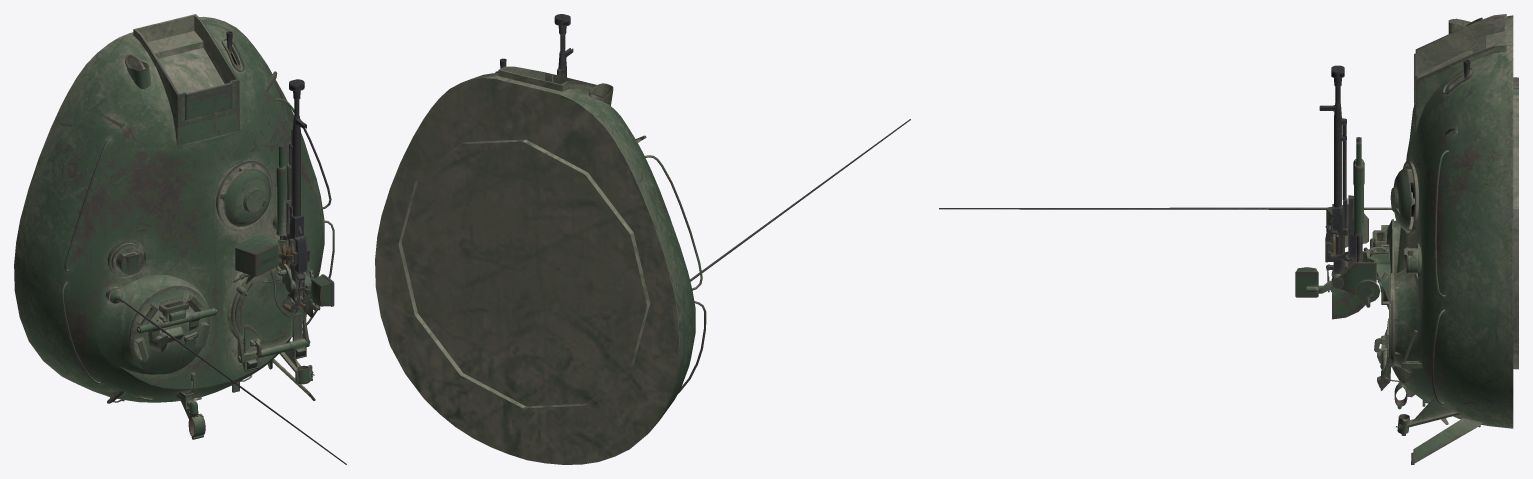
The model's file is Turret_02.glb.
3 renders of one model, left to right at view 1: azimuth 30°, elevation 25°; view 2: azimuth 150°, elevation 25°; view 3: azimuth 270°, elevation 25°, orthographic. The views are drawn at different scales.
Parts seen in each view (by area): view 1: set_0_group_0; view 2: set_0_group_0; view 3: set_0_group_0.
Part boxes in pixels (left/top/right/bottom): set_0_group_0: left=14, top=14, right=346, bottom=464; set_0_group_0: left=375, top=14, right=910, bottom=464; set_0_group_0: left=939, top=14, right=1518, bottom=464.
Bounding box in the file's own units: 2.19 × 2.66 × 3.62.
1 material, 1 textured.
